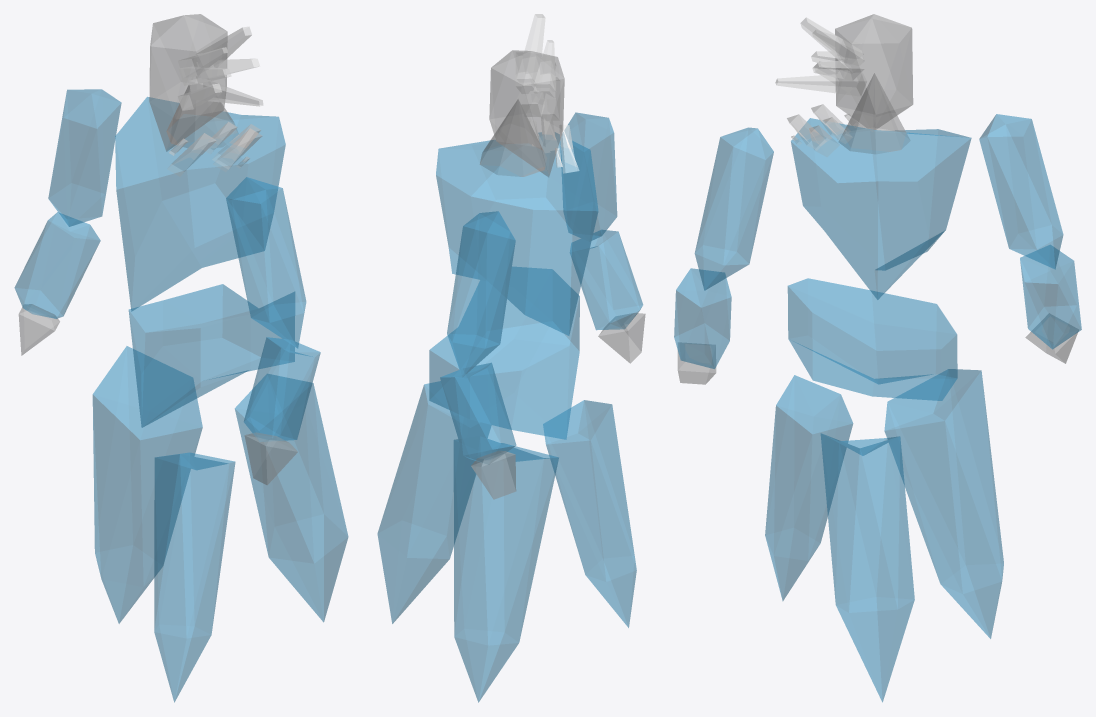
The model's file is ghostDistanceAttack9.obj.
3 renders of one model, left to right at view 1: azimuth 30°, elevation 25°; view 2: azimuth 150°, elevation 25°; view 3: azimuth 270°, elevation 25°, orthographic. The views are drawn at different scales.
Parts seen in each view (by area): view 1: Cube.001_Cube.007, Icosphere.020, Icosphere.019, Cube_Cube.007, Icosphere.018, Icosphere.005_Icosphere.007, Icosphere.003_Icosphere.007, Icosphere.007_Icosphere.006, Icosphere.006_Icosphere.006, Icosphere.008_Icosphere.006, Cone_Cone.007, Cube.002_Cube.007 (+8 smaller); view 2: Cube.001_Cube.007, Cube_Cube.007, Icosphere.020, Icosphere.019, Icosphere.018, Icosphere.007_Icosphere.006, Icosphere.003_Icosphere.007, Icosphere.005_Icosphere.007, Icosphere.008_Icosphere.006, Icosphere.006_Icosphere.006, Cone_Cone.007, Cube.003_Cube.007 (+5 smaller); view 3: Cube.001_Cube.007, Icosphere.020, Icosphere.019, Cube_Cube.007, Icosphere.018, Icosphere.005_Icosphere.007, Icosphere.007_Icosphere.006, Icosphere.003_Icosphere.007, Icosphere.006_Icosphere.006, Icosphere.008_Icosphere.006, Cone_Cone.007, Cube.002_Cube.007 (+4 smaller).
Part boxes in pixels (<box>): Cube.001_Cube.007: <box>115,97,285,311</box>; Icosphere.020: <box>92,346,202,623</box>; Icosphere.019: <box>235,374,348,622</box>; Cube_Cube.007: <box>128,284,294,427</box>; Icosphere.018: <box>154,452,235,702</box>; Icosphere.005_Icosphere.007: <box>226,177,306,348</box>; Icosphere.003_Icosphere.007: <box>149,14,227,151</box>; Icosphere.007_Icosphere.006: <box>48,89,121,226</box>; Icosphere.006_Icosphere.006: <box>244,337,320,441</box>; Icosphere.008_Icosphere.006: <box>14,212,100,318</box>; Cone_Cone.007: <box>166,85,238,148</box>; Cube.002_Cube.007: <box>244,432,297,484</box>; Cube.001_Cube.007: <box>436,132,598,335</box>; Cube_Cube.007: <box>429,267,579,439</box>; Icosphere.020: <box>453,436,558,702</box>; Icosphere.019: <box>377,381,491,623</box>; Icosphere.018: <box>543,400,636,627</box>; Icosphere.007_Icosphere.006: <box>447,211,515,376</box>; Icosphere.003_Icosphere.007: <box>489,50,564,177</box>; Icosphere.005_Icosphere.007: <box>561,112,617,241</box>; Icosphere.008_Icosphere.006: <box>440,362,516,464</box>; Icosphere.006_Icosphere.006: <box>570,230,642,330</box>; Cone_Cone.007: <box>480,99,544,176</box>; Cube.003_Cube.007: <box>471,451,516,499</box>; Cube.001_Cube.007: <box>791,118,971,299</box>; Icosphere.020: <box>884,369,1003,638</box>; Icosphere.019: <box>820,433,914,702</box>; Cube_Cube.007: <box>787,278,957,400</box>; Icosphere.018: <box>765,375,853,600</box>; Icosphere.005_Icosphere.007: <box>694,127,773,290</box>; Icosphere.007_Icosphere.006: <box>979,114,1063,269</box>; Icosphere.003_Icosphere.007: <box>835,14,913,129</box>; Icosphere.006_Icosphere.006: <box>674,268,731,368</box>; Icosphere.008_Icosphere.006: <box>1020,245,1081,349</box>; Cone_Cone.007: <box>839,73,910,153</box>; Cube.002_Cube.007: <box>677,342,716,384</box>.
Bounding box in the file's own units: 16.93 × 47.15 × 27.43.
